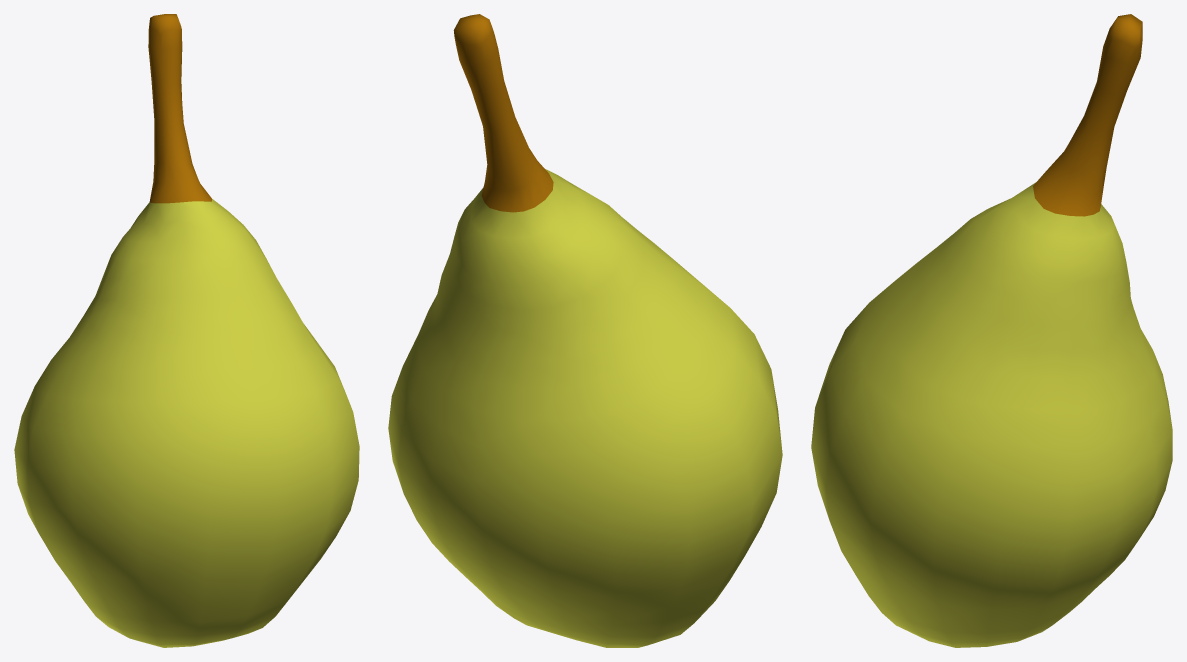
Rendered from Pear.fbx.
3 views of the same model, side by side, from view 1: azimuth 30°, elevation 25°; view 2: azimuth 150°, elevation 25°; view 3: azimuth 270°, elevation 25° (orthographic). The views are drawn at different scales.
Parts seen in each view (by area): view 1: Pear; view 2: Pear; view 3: Pear.
Part boxes in pixels (x1,y1,x2,y2): Pear: (14,14,359,647); Pear: (388,14,782,647); Pear: (811,14,1172,647).
Size of the model in its own units: 27.03 by 48.16 by 25.26.
